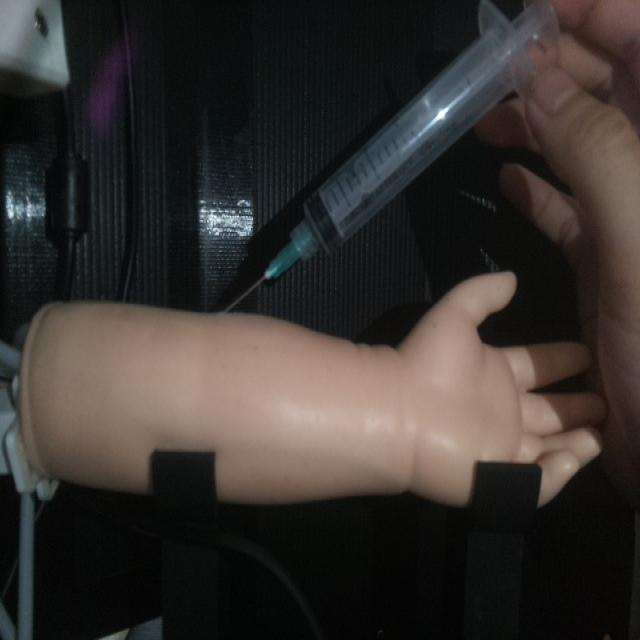Above 30 degrees: (220, 0, 560, 320)
